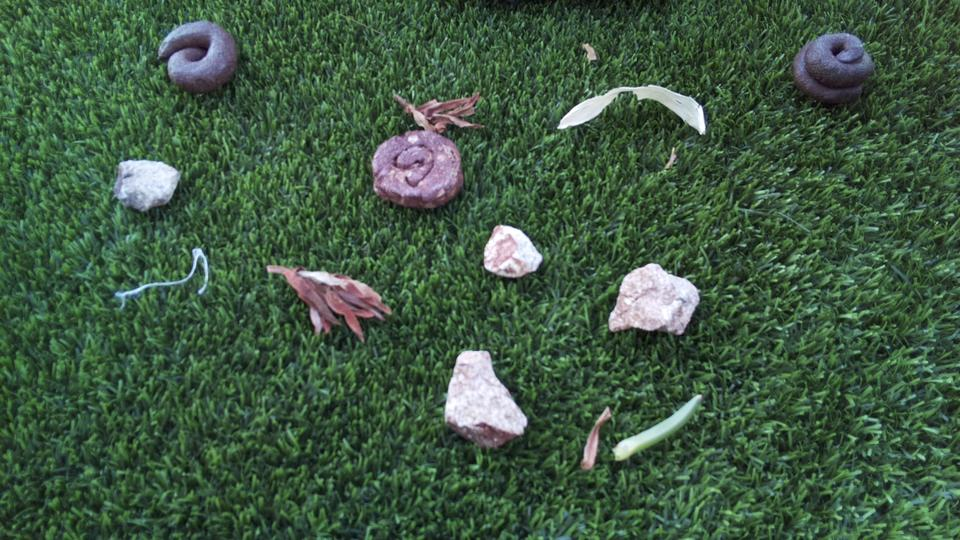poop: (368, 127, 467, 211), (790, 26, 881, 108), (155, 16, 243, 98)
